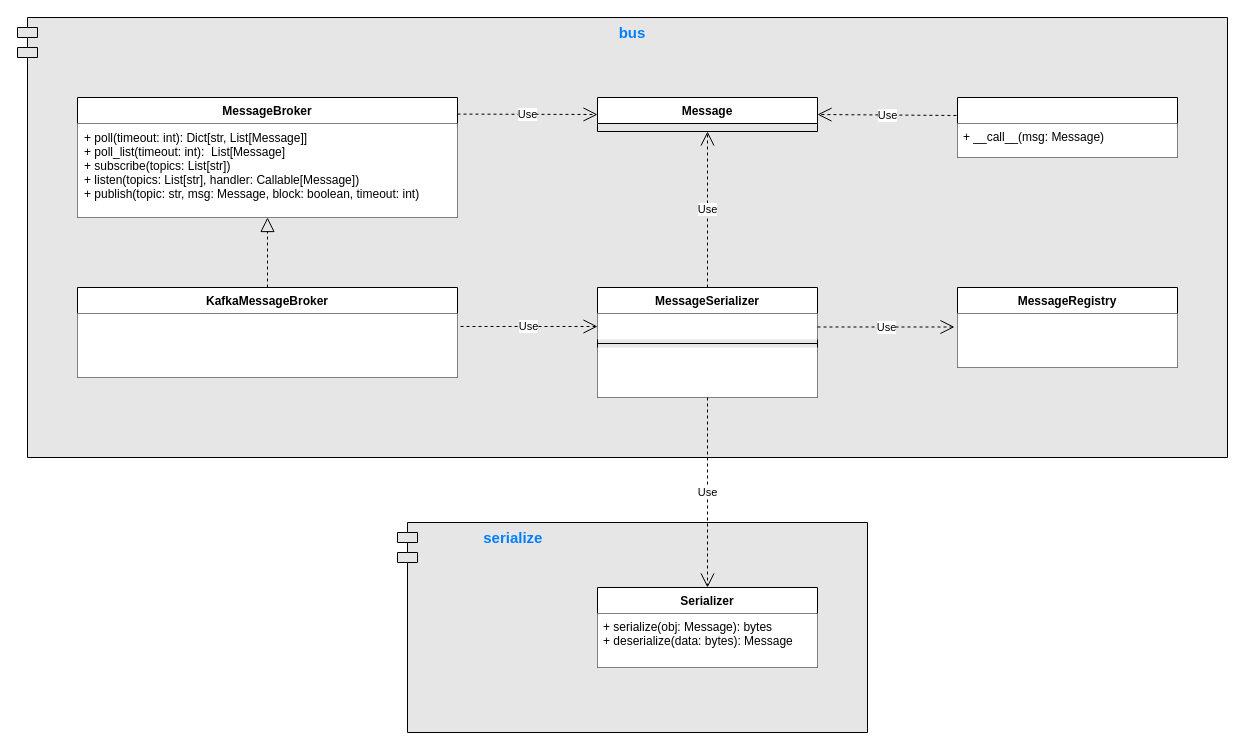
The diagram is 1245 pixels wide and 750 high, and some of its shapes have lost their labels. Each missing label, with the box of its shape:
+ add(*message_types: Type[Message]) + get(*message_type: Type[Message]): (957, 313, 1177, 367)
+ registry: MessageRegistry: (597, 313, 817, 339)
+ serialize(msg: Message): bytes + deserialize(data: bytes): Message: (597, 347, 817, 397)
+ serializer: MessageSerializer + servers: List[str] + group: str: (77, 313, 457, 377)
MessageDispatcher: (956, 96, 1178, 158)
